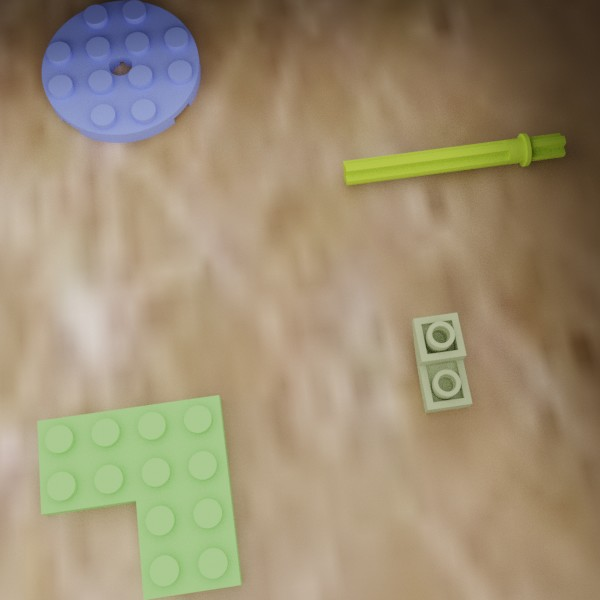lego: (37, 395, 242, 599), (41, 0, 200, 142), (342, 132, 566, 185), (412, 312, 472, 413)
